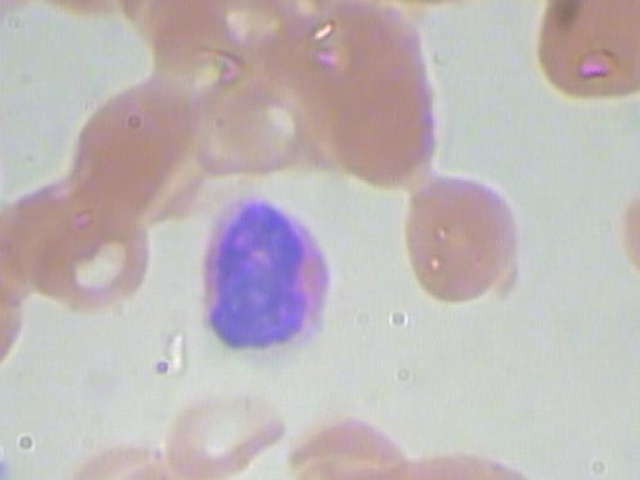Platelets: (0, 449, 7, 480)
RBC: (382, 161, 535, 307), (326, 62, 463, 187), (177, 62, 314, 187), (28, 204, 165, 328), (155, 374, 293, 480), (519, 0, 640, 103), (0, 0, 58, 36), (0, 82, 13, 222), (389, 0, 507, 8)
WBC: (188, 190, 345, 373)
